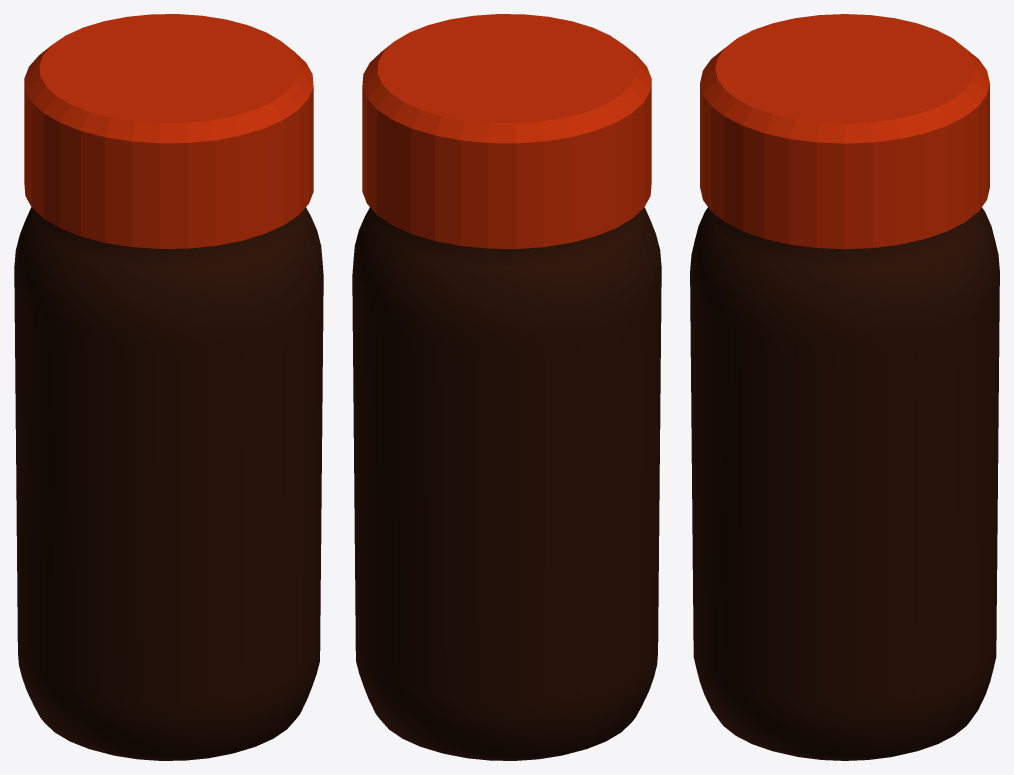
The model's file is bottle.gltf.
3 views of the same model, side by side, from view 1: azimuth 30°, elevation 25°; view 2: azimuth 150°, elevation 25°; view 3: azimuth 270°, elevation 25° (orthographic).
Parts seen in each view (by area): view 1: bottle.002, bottle.000; view 2: bottle.002, bottle.000; view 3: bottle.002, bottle.000.
Boxes of the visible parts, <box> form: bottle.002: <box>14,207,323,760</box>; bottle.000: <box>24,14,313,248</box>; bottle.002: <box>352,207,661,760</box>; bottle.000: <box>362,14,651,248</box>; bottle.002: <box>690,207,999,760</box>; bottle.000: <box>700,14,989,249</box>.
Size of the model in its own units: 0.0593 by 0.1354 by 0.0593.
